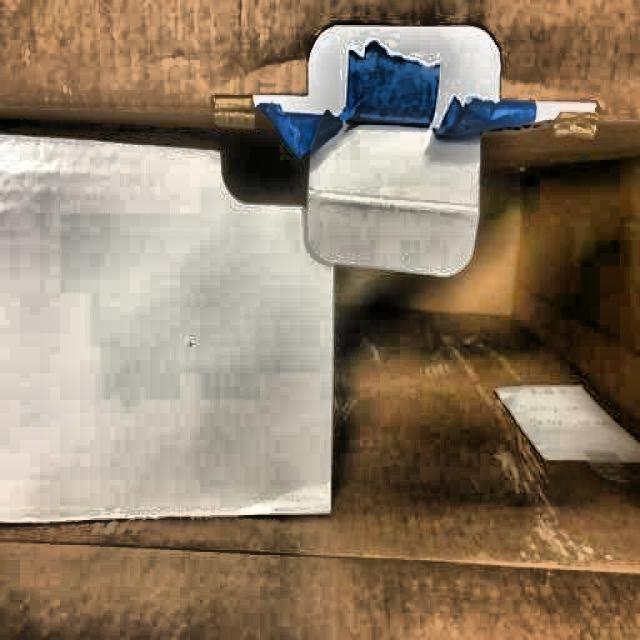cardboard: (0, 123, 336, 525)
